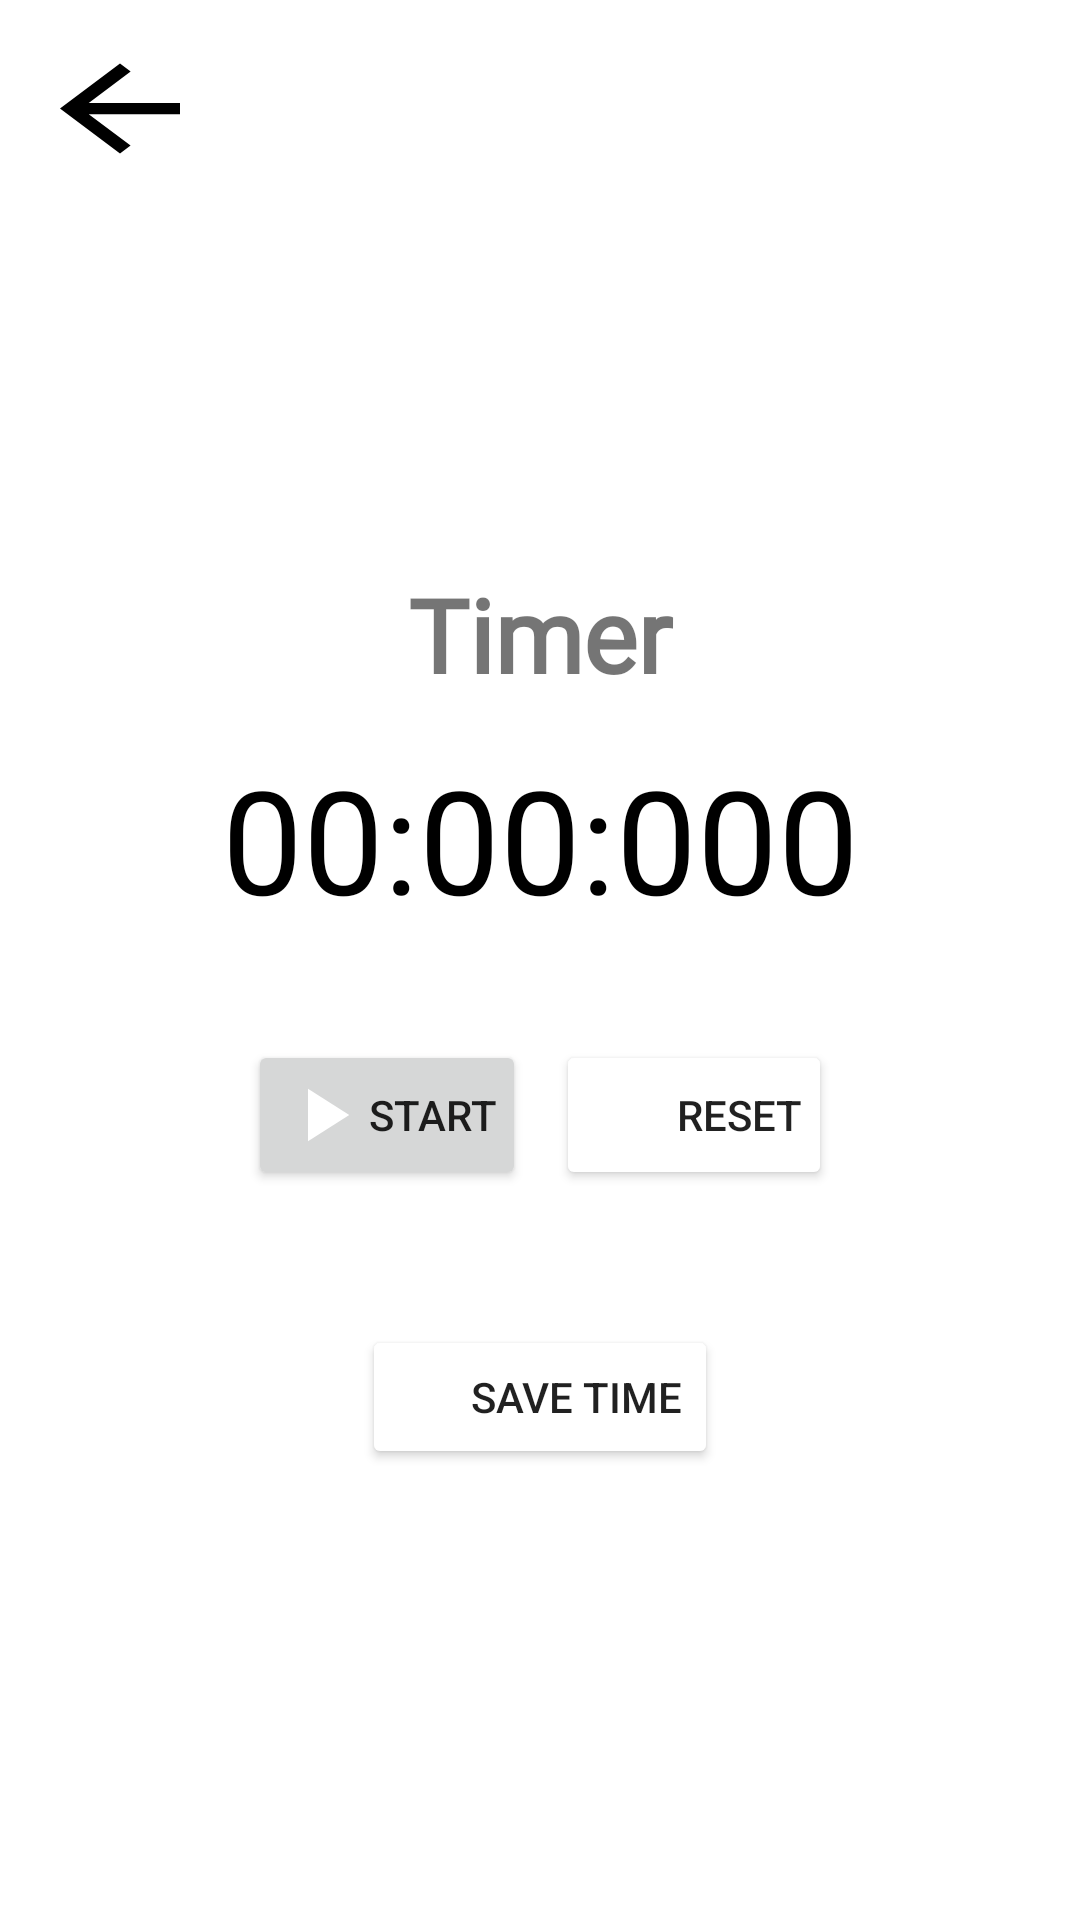

Named icons in this screenshot (1080px x 1920px) and their centers, [x,y]:
Back: [120,108]
